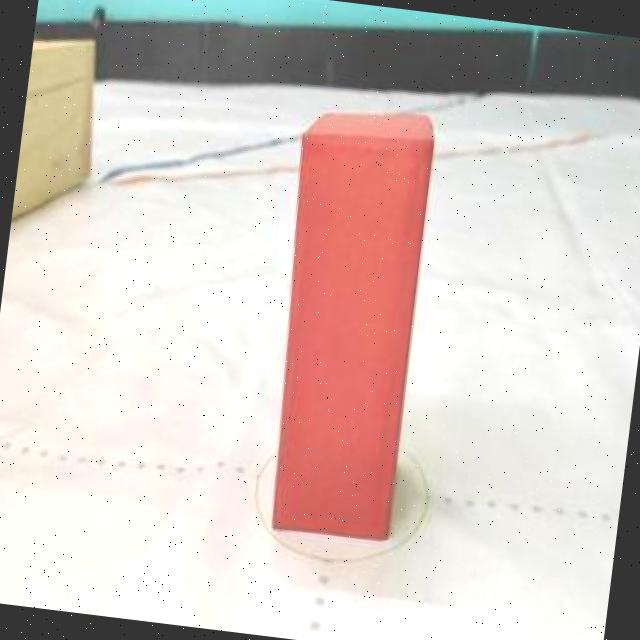redbox: (252, 95, 440, 546)
